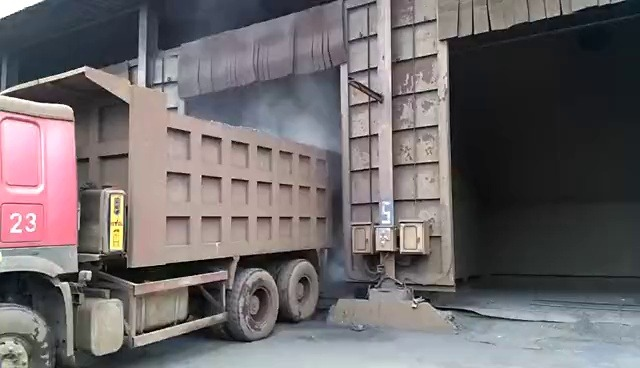dust: (244, 86, 344, 146)
truck: (0, 65, 337, 366)
